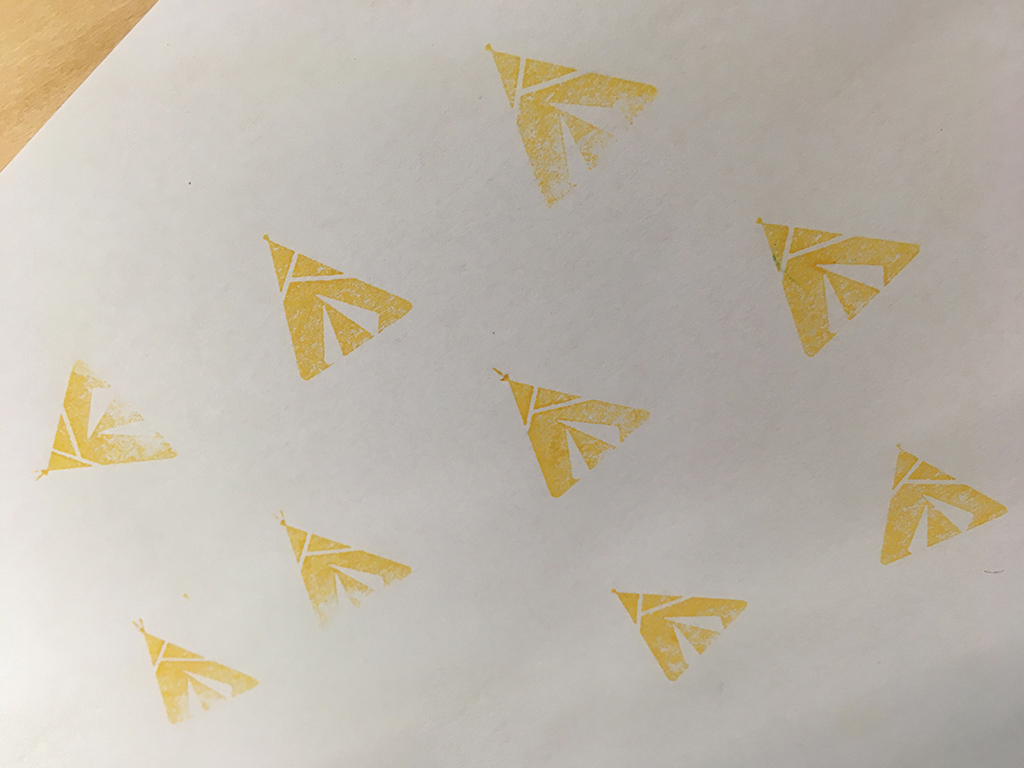tent: (479, 40, 666, 218), (744, 209, 931, 368), (249, 228, 426, 391), (487, 359, 665, 506), (26, 355, 183, 503), (262, 507, 424, 637), (868, 437, 1013, 573), (597, 576, 754, 689), (126, 617, 273, 727)
